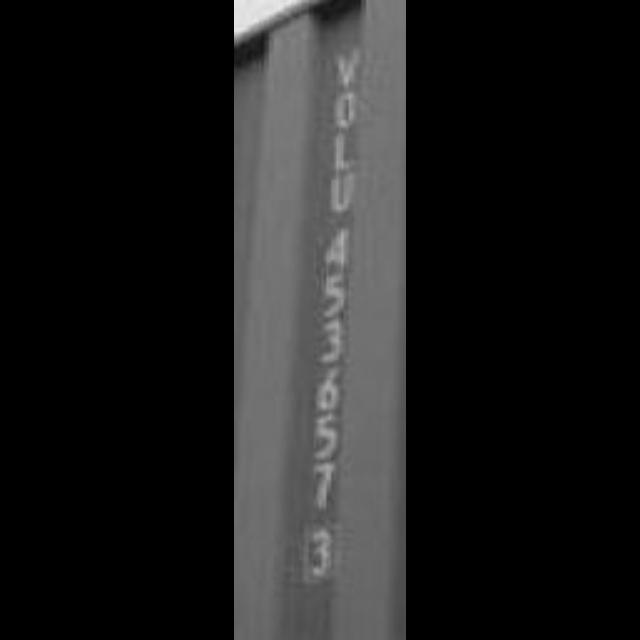3: (314, 317, 356, 371), (305, 522, 339, 580)
4: (321, 225, 362, 272)
5: (318, 270, 356, 320), (308, 412, 346, 461)
6: (310, 368, 348, 414)
7: (306, 459, 346, 509)
l: (326, 133, 370, 177)
o: (328, 90, 368, 132)
u: (328, 170, 364, 217)
v: (320, 47, 376, 91)
